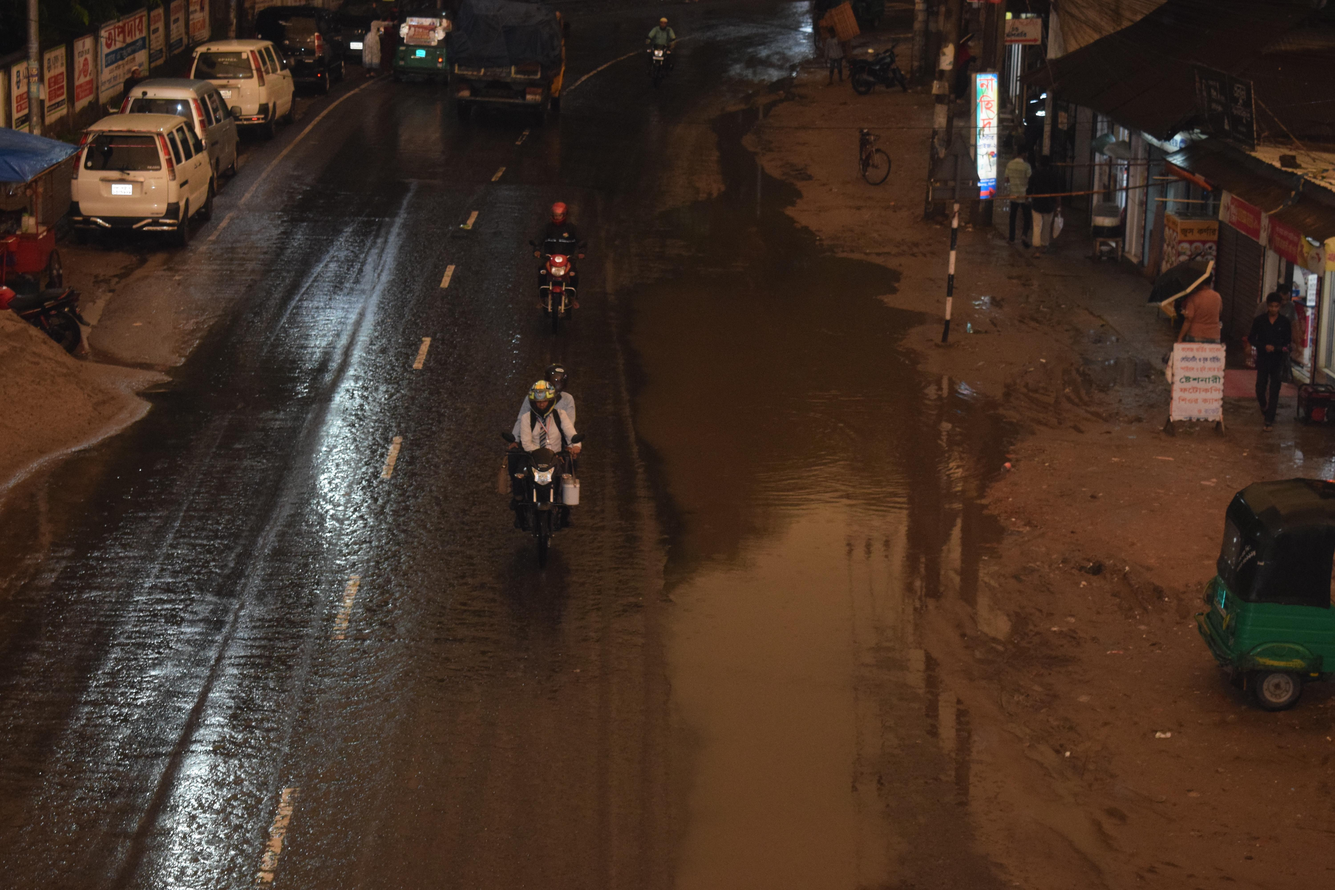Bike: (478, 325, 620, 597), (510, 163, 620, 344), (629, 0, 693, 97)
Car: (61, 99, 221, 273), (111, 64, 260, 185), (175, 26, 306, 135), (241, 8, 359, 115)
Truck: (430, 0, 601, 124)
